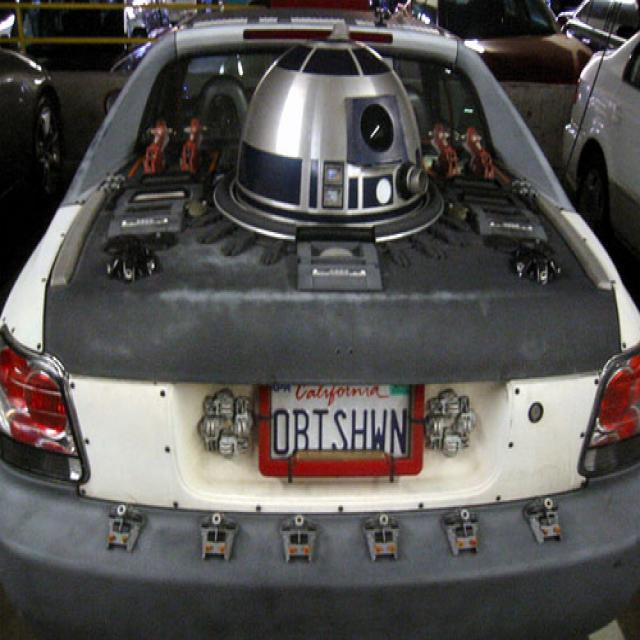Car: (0, 7, 636, 638)
